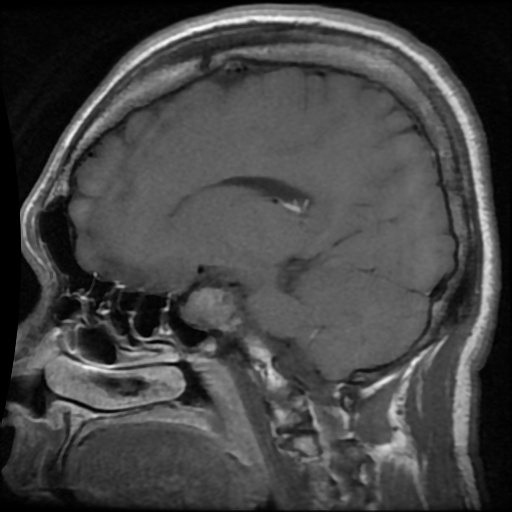pituitary: (181, 287, 238, 330)
